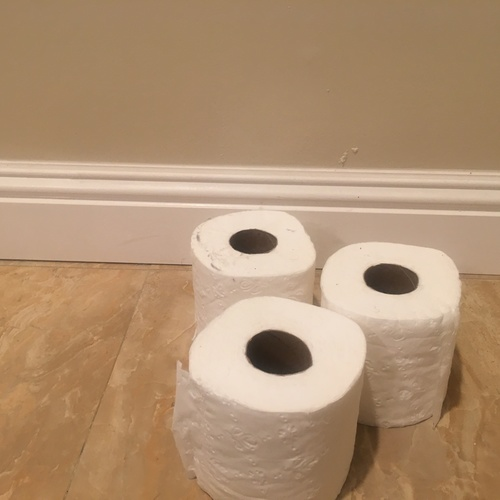roll: (172, 295, 366, 500), (318, 239, 461, 424), (186, 210, 315, 336)
